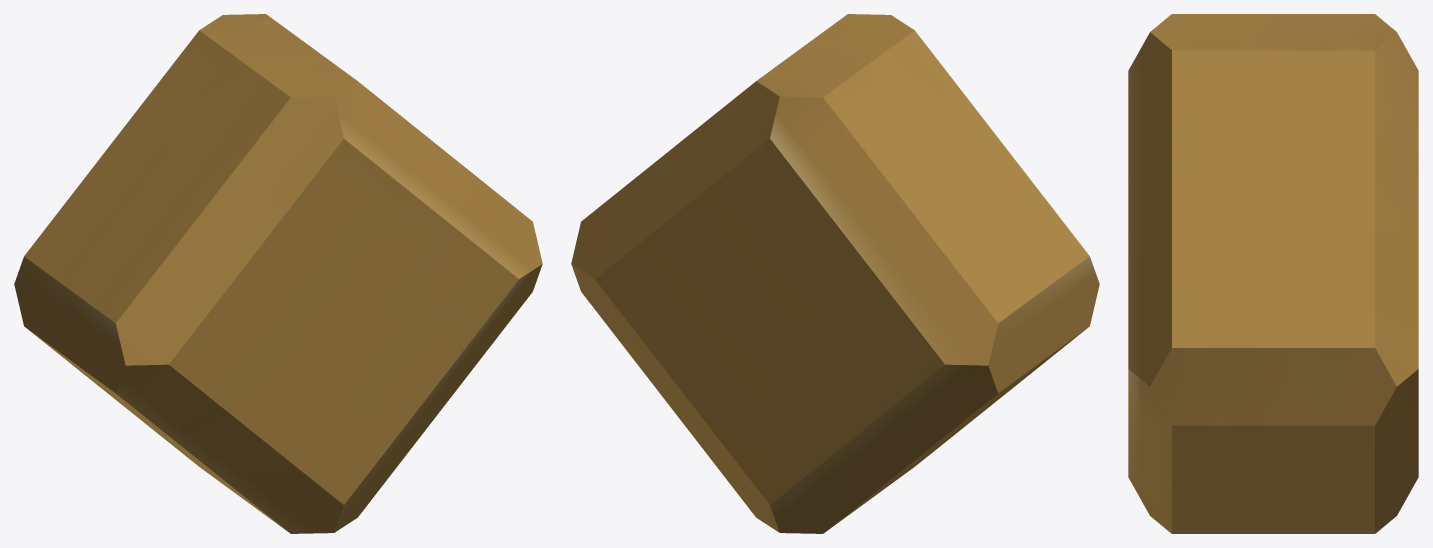
The model's file is tip_2.obj.
3 views of the same model, side by side, from view 1: azimuth 30°, elevation 25°; view 2: azimuth 150°, elevation 25°; view 3: azimuth 270°, elevation 25° (orthographic). The views are drawn at different scales.
Visible parts, largest first — view 1: Suspended_gold_tip; view 2: Suspended_gold_tip; view 3: Suspended_gold_tip.
Part boxes in pixels (left/top/right/bottom): Suspended_gold_tip: left=14, top=14, right=542, bottom=533; Suspended_gold_tip: left=571, top=14, right=1099, bottom=533; Suspended_gold_tip: left=1128, top=14, right=1418, bottom=533.
Size of the model in its own units: 0.0579 by 0.0579 by 0.0315.
